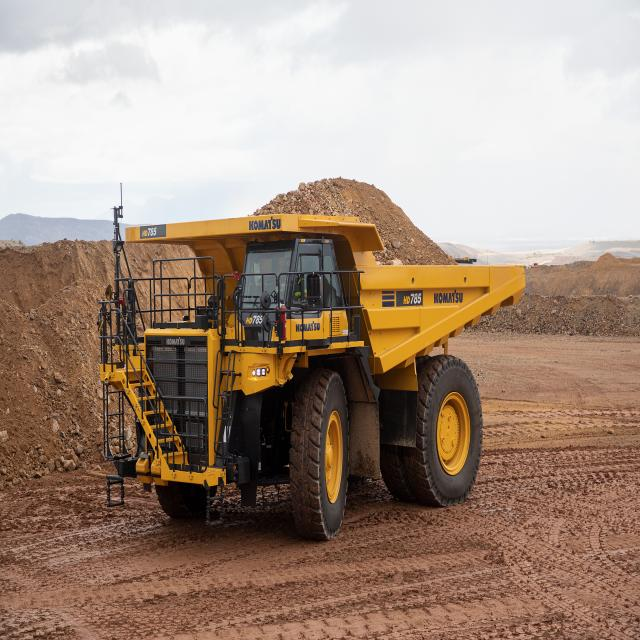dump_truck: (97, 168, 527, 538)
